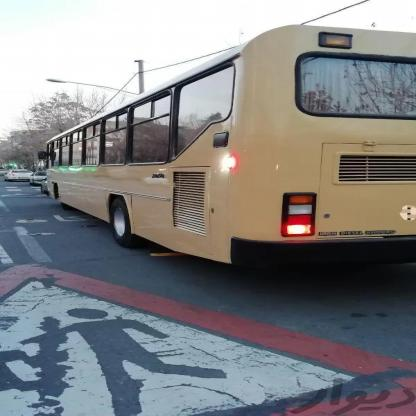Bus: (34, 27, 416, 274)
Car: (0, 169, 40, 186)
